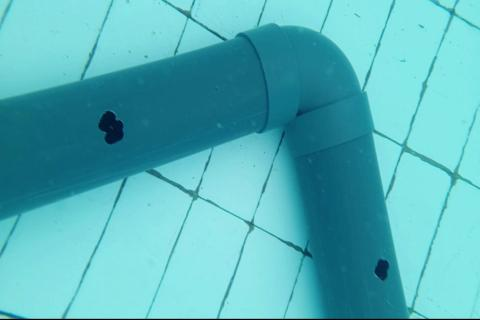kebocoran: (97, 109, 126, 146), (374, 256, 390, 282)
